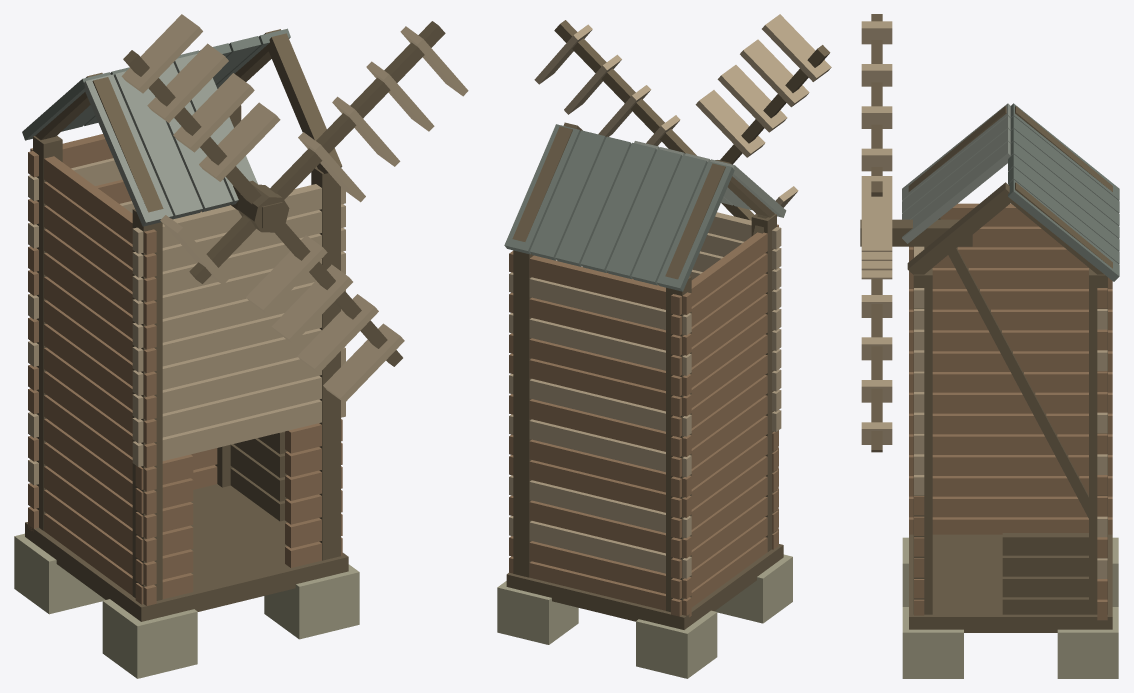
Rendered from qc_windmill_ruin.obj.
The picture shows the model from 3 angles, left to right: view 1: azimuth 30°, elevation 25°; view 2: azimuth 150°, elevation 25°; view 3: azimuth 270°, elevation 25°; orthographic projection. The views are drawn at different scales.
Visible parts, largest first — view 1: qc_windmill_ruin; view 2: qc_windmill_ruin; view 3: qc_windmill_ruin.
Boxes of the visible parts, x1=… form: qc_windmill_ruin: x1=14, y1=14, x2=468, y2=678; qc_windmill_ruin: x1=497, y1=14, x2=831, y2=678; qc_windmill_ruin: x1=860, y1=14, x2=1119, y2=678.
Bounding box in the file's own units: 2.65 × 5.01 × 2.03.
